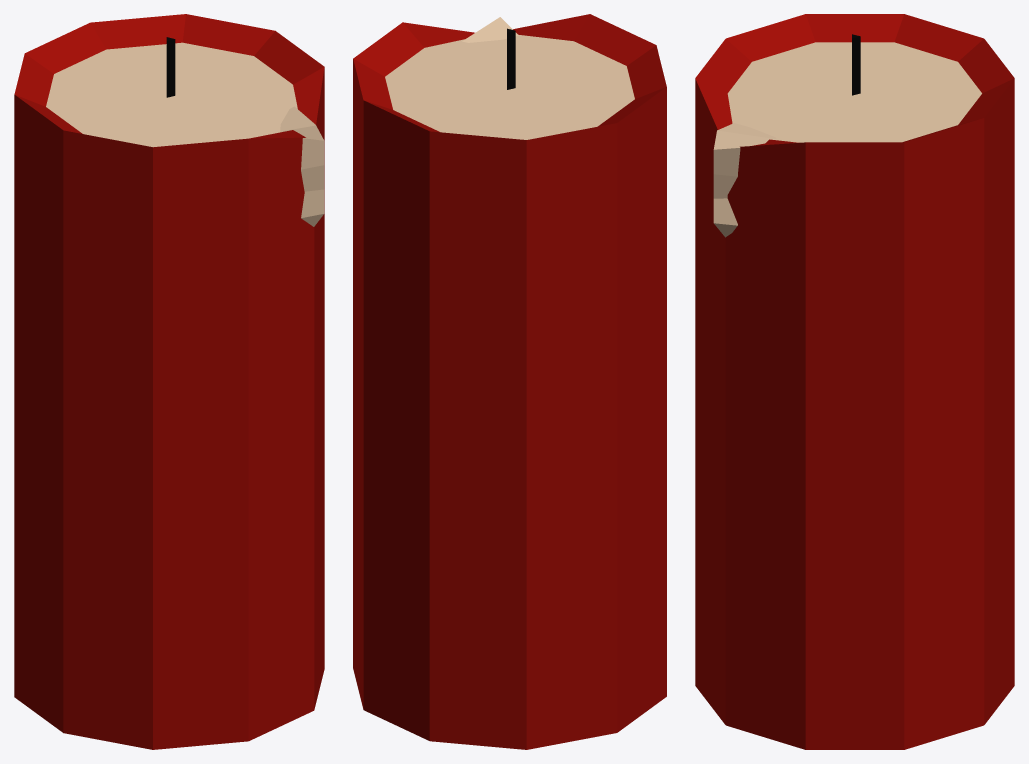
The model's file is Candle_003.fbx.
3 views of the same model, side by side, from view 1: azimuth 30°, elevation 25°; view 2: azimuth 150°, elevation 25°; view 3: azimuth 270°, elevation 25° (orthographic).
Parts seen in each view (by area): view 1: candle_003; view 2: candle_003; view 3: candle_003.
Part boxes in pixels (<box>): candle_003: <box>14,14,324,749</box>; candle_003: <box>353,14,666,749</box>; candle_003: <box>695,14,1014,749</box>.
Size of the model in its own units: 5.71 by 13.46 by 6.
